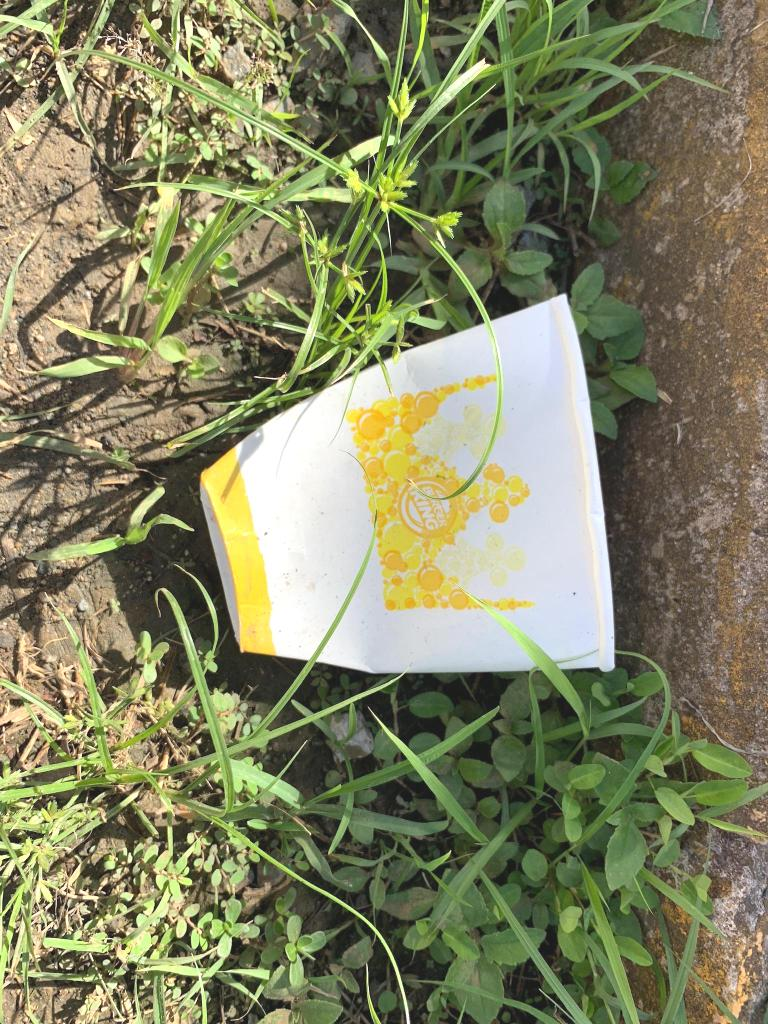garbage: (136, 313, 671, 713)
